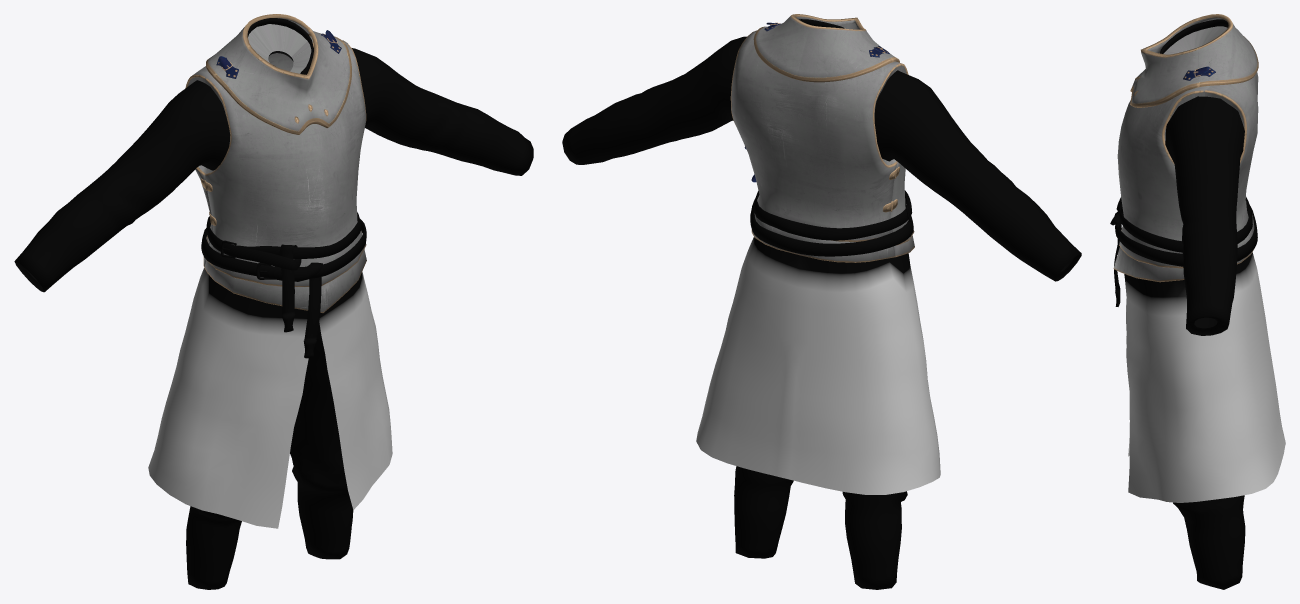
The model's file is swan_knight_armor_1b_t1.fbx.
3 renders of one model, left to right at view 1: azimuth 30°, elevation 25°; view 2: azimuth 150°, elevation 25°; view 3: azimuth 270°, elevation 25°, orthographic. The views are drawn at different scales.
Parts seen in each view (by area): view 1: swan_knight_armor_1b_t1.0, swan_knight_armor_1b_t1.1; view 2: swan_knight_armor_1b_t1.0, swan_knight_armor_1b_t1.1; view 3: swan_knight_armor_1b_t1.0, swan_knight_armor_1b_t1.1.
Part boxes in pixels (x1,y1,x2,y2): swan_knight_armor_1b_t1.0: (14,18,533,589); swan_knight_armor_1b_t1.1: (185,14,366,312); swan_knight_armor_1b_t1.0: (562,19,1081,589); swan_knight_armor_1b_t1.1: (730,14,914,262); swan_knight_armor_1b_t1.0: (1110,19,1285,589); swan_knight_armor_1b_t1.1: (1113,14,1258,282).
Size of the model in its own units: 1.34 by 0.4125 by 1.38.
